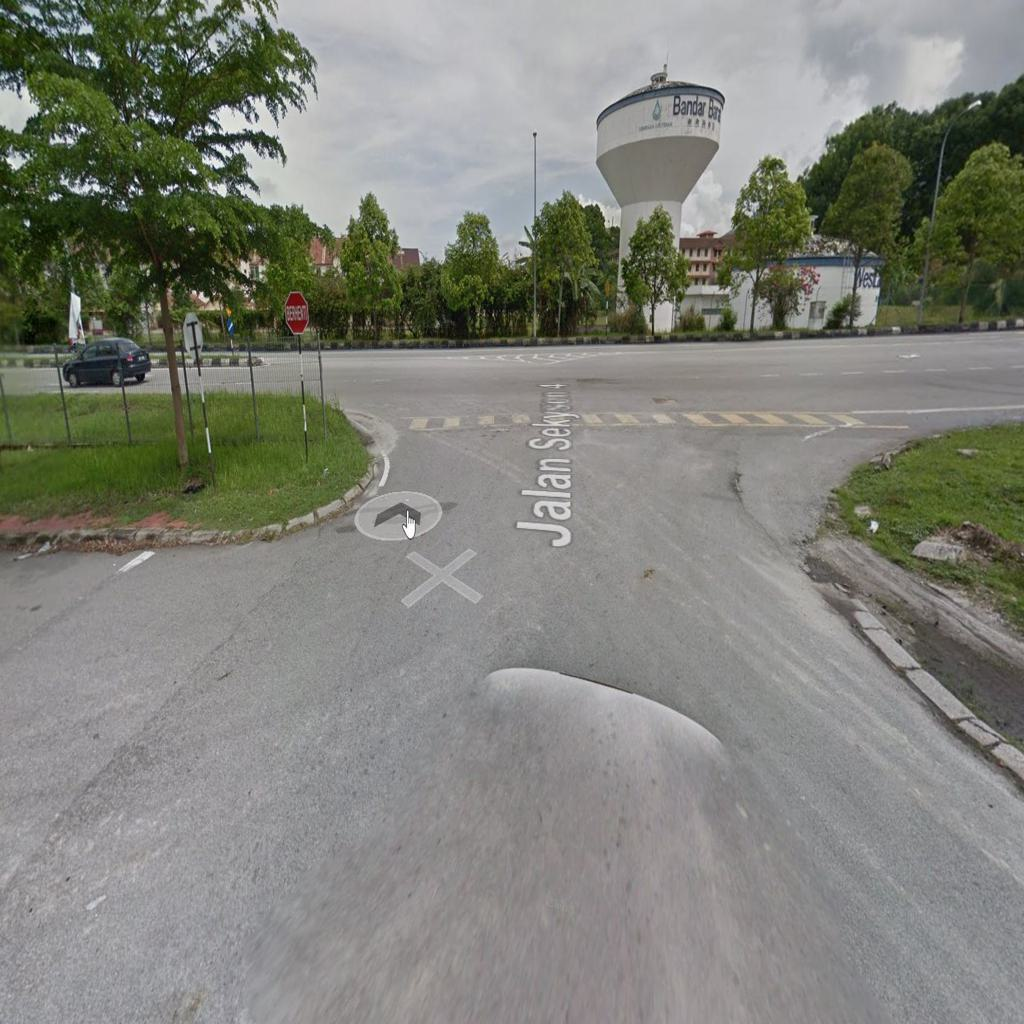Junction: (743, 302, 1022, 577), (178, 307, 424, 506)
